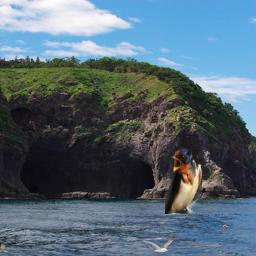Swallow: (165, 145, 202, 214)
